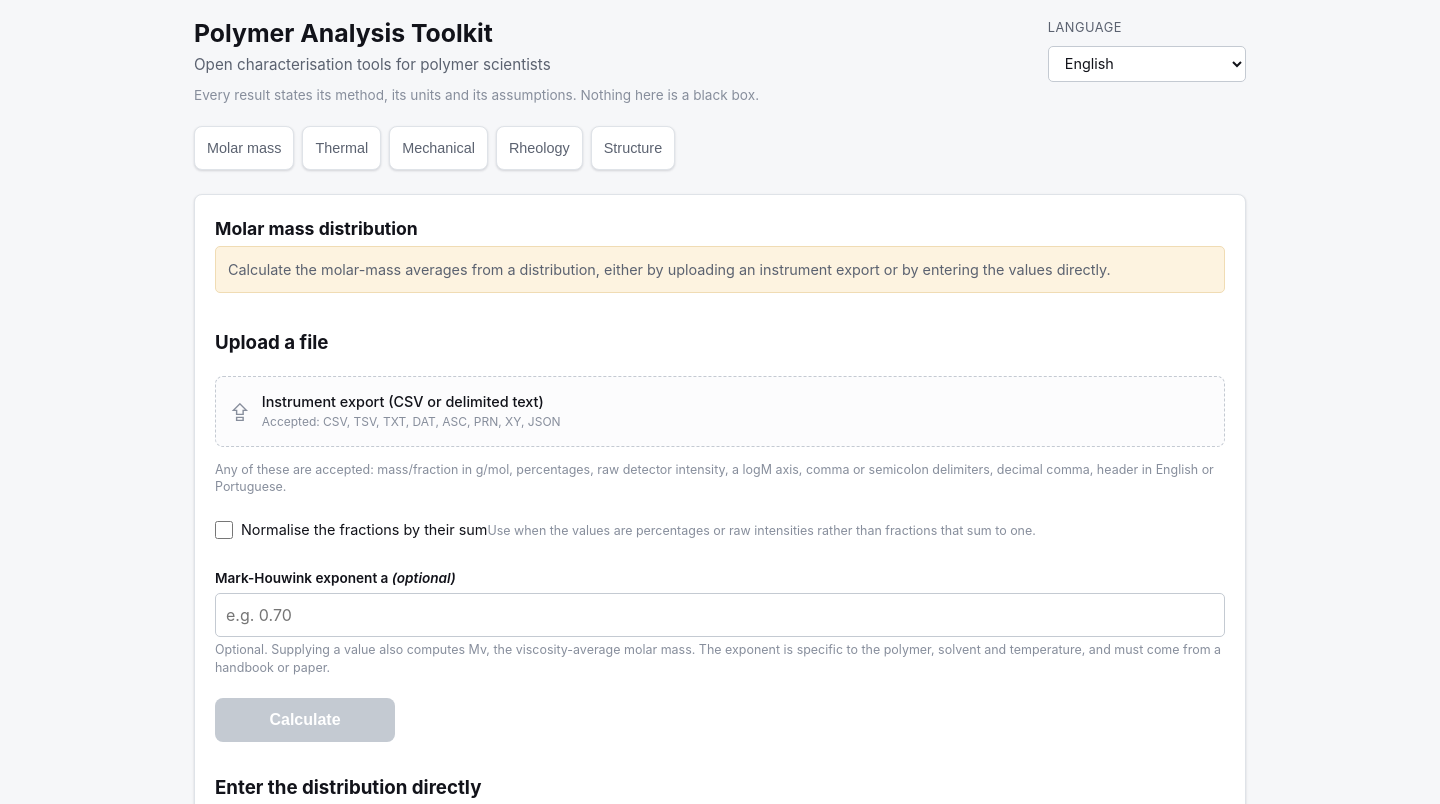
Scenario: thermal clear button › is disabled until there is something to clear
Click the button "Thermal": (342, 148) [302,126,381,170]
(page scrolled)
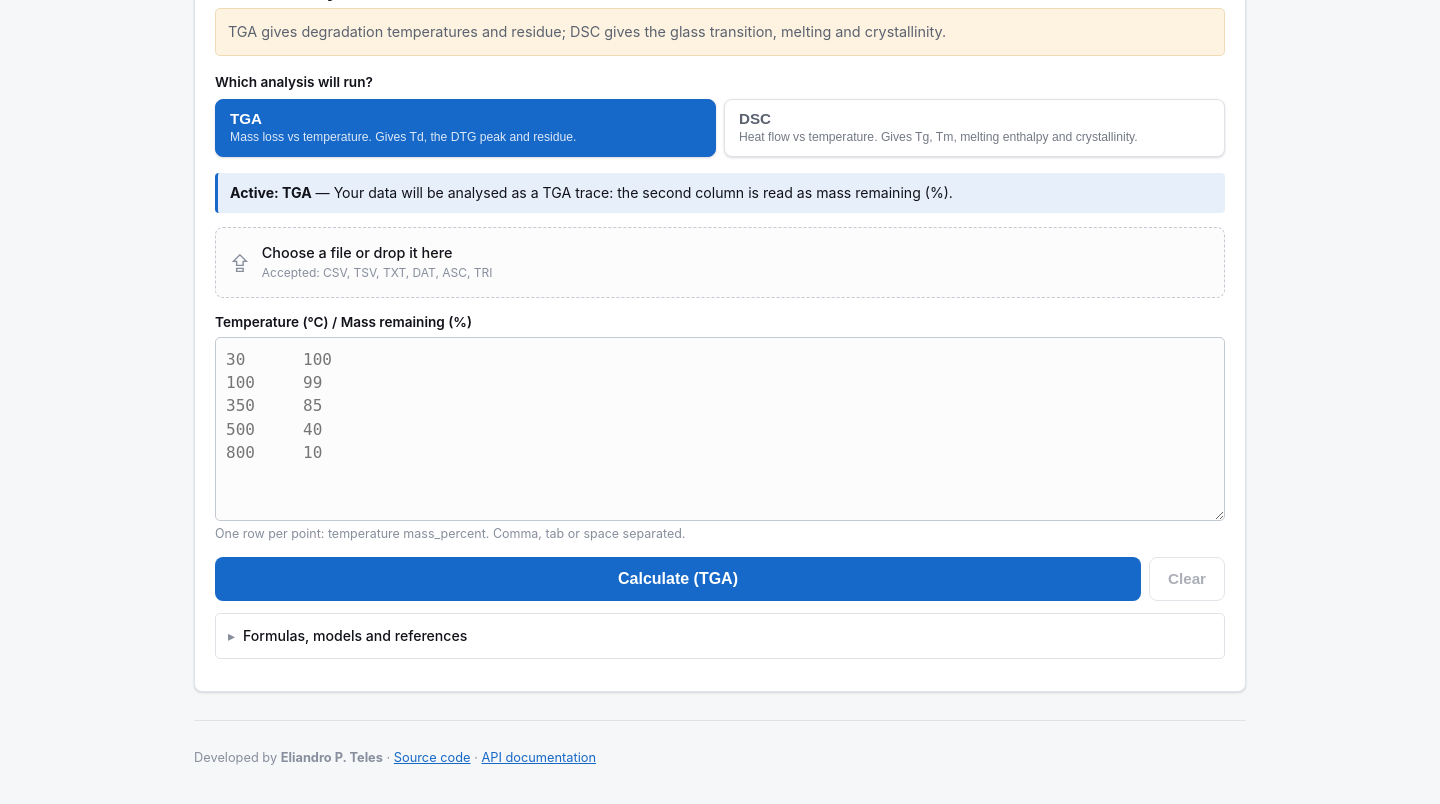
Result: the button "Clear" is disabled at [1149,557,1225,601]
